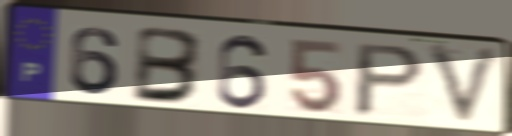5: (287, 35, 345, 116)
6: (215, 31, 270, 112), (68, 24, 123, 97)
B: (130, 24, 207, 106)
P: (350, 41, 429, 119)
V: (424, 42, 506, 131)
